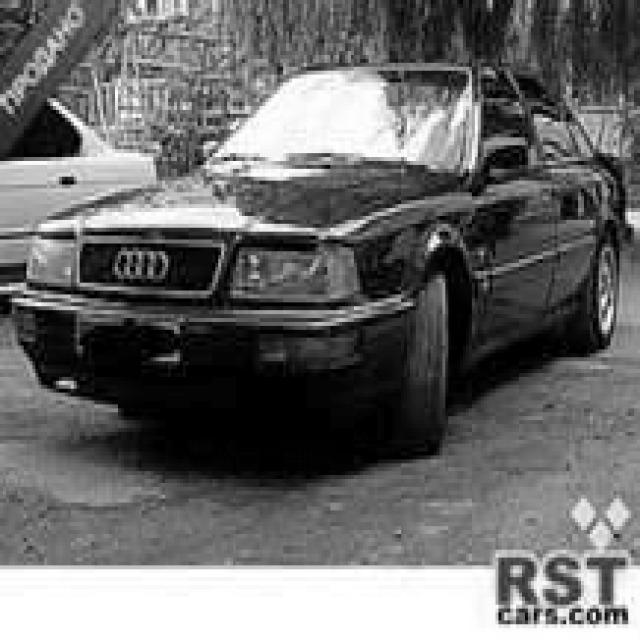car: (9, 59, 628, 455), (0, 78, 156, 310)
